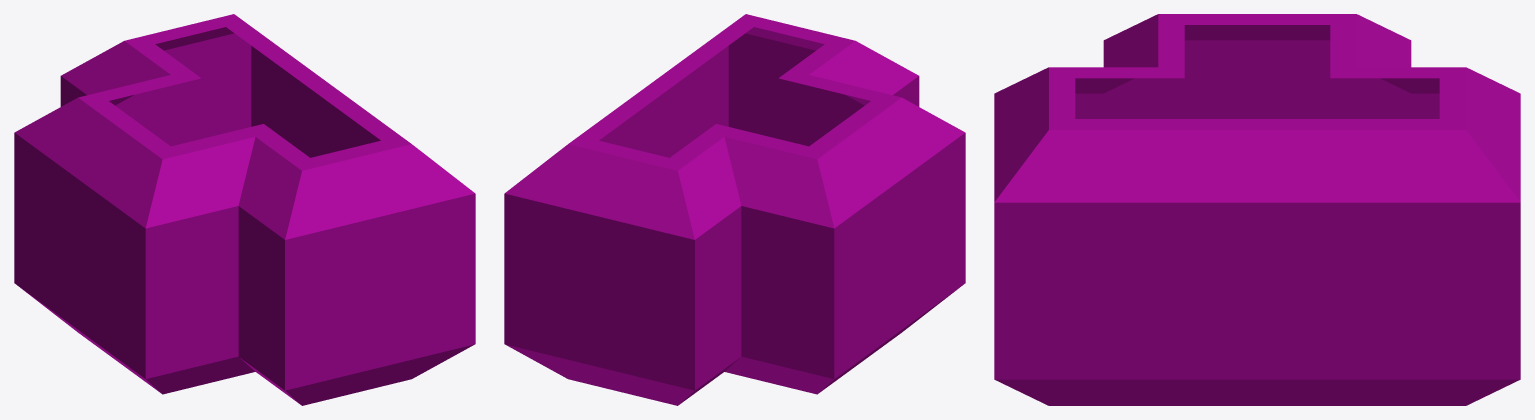
File: Gare_2_Anneau_Poteau_1.fbx
3 views of the same model, side by side, from view 1: azimuth 30°, elevation 25°; view 2: azimuth 150°, elevation 25°; view 3: azimuth 270°, elevation 25° (orthographic). The views are drawn at different scales.
Parts seen in each view (by area): view 1: Gare_2_Anneau_Poteau_1; view 2: Gare_2_Anneau_Poteau_1; view 3: Gare_2_Anneau_Poteau_1.
Boxes of the visible parts, left/top/right/bottom form: Gare_2_Anneau_Poteau_1: left=14, top=14, right=475, bottom=405; Gare_2_Anneau_Poteau_1: left=504, top=14, right=965, bottom=405; Gare_2_Anneau_Poteau_1: left=994, top=14, right=1520, bottom=405.
Size of the model in its own units: 0.5266 by 0.4176 by 0.7223.
